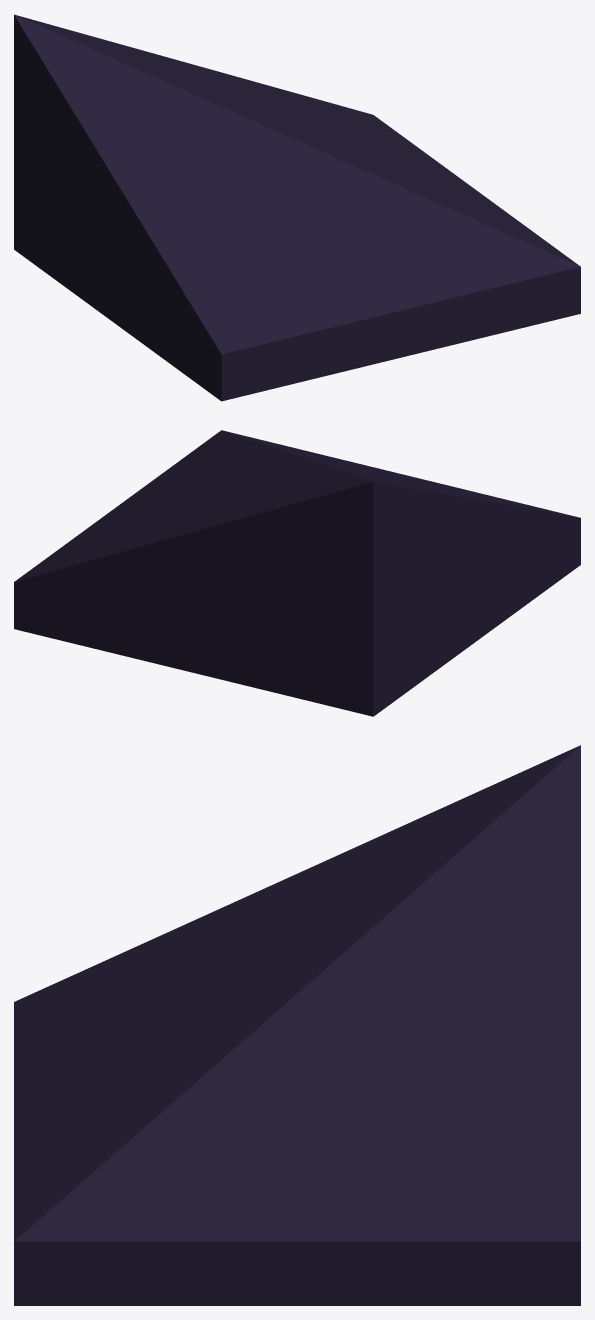
Rendered from BRoofCorner_A.fbx.
3 views of the same model, one above another, from view 1: azimuth 30°, elevation 25°; view 2: azimuth 150°, elevation 25°; view 3: azimuth 270°, elevation 25° (orthographic). The views are drawn at different scales.
Parts seen in each view (by area): view 1: BRoofCorner_A; view 2: BRoofCorner_A; view 3: BRoofCorner_A.
Part boxes in pixels (x1=…): BRoofCorner_A: x1=14, y1=14, x2=580, y2=401; BRoofCorner_A: x1=14, y1=430, x2=580, y2=716; BRoofCorner_A: x1=14, y1=745, x2=580, y2=1305.
Size of the model in its own units: 400 by 250 by 400.
